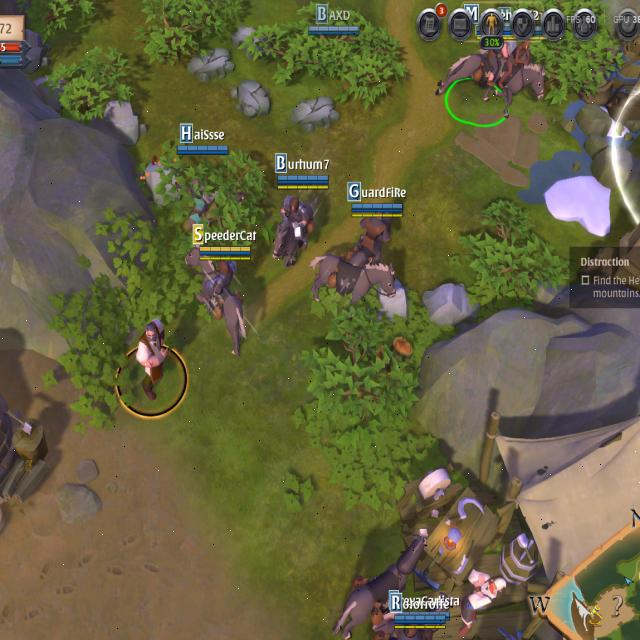broken stone: (288, 91, 341, 134), (229, 76, 274, 122), (185, 44, 236, 84)
stone: (421, 278, 484, 332), (100, 98, 148, 148), (143, 154, 184, 211)
